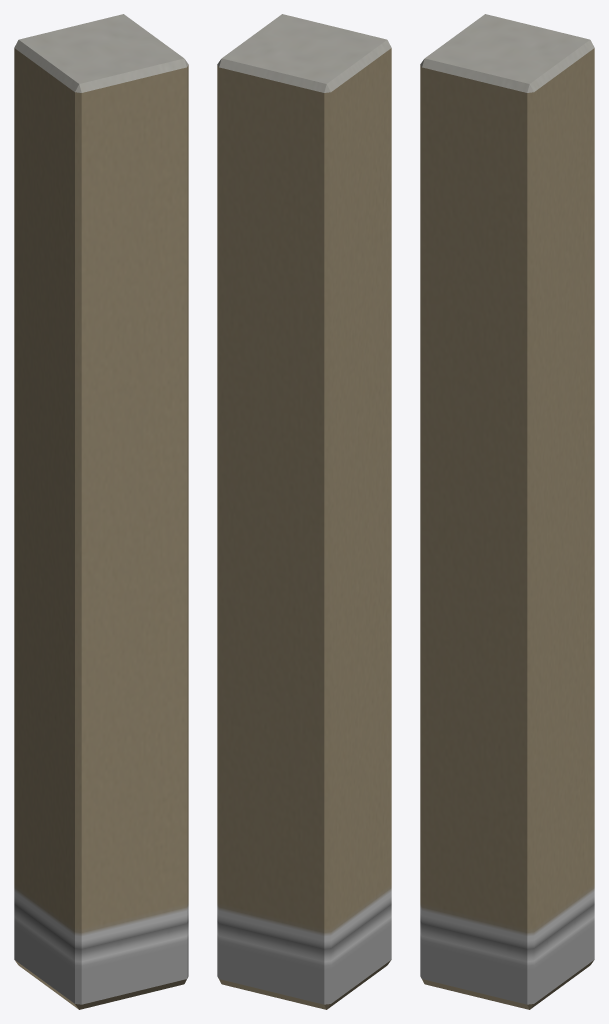
The model's file is column1_5.fbx.
The picture shows the model from 3 angles, left to right: view 1: azimuth 30°, elevation 25°; view 2: azimuth 150°, elevation 25°; view 3: azimuth 330°, elevation 25°; orthographic projection.
Parts seen in each view (by area): view 1: column1_d; view 2: column1_d; view 3: column1_d.
Part boxes in pixels (x1=…): column1_d: x1=14, y1=14, x2=188, y2=1009; column1_d: x1=217, y1=14, x2=391, y2=1009; column1_d: x1=420, y1=14, x2=594, y2=1009.
Size of the model in its own units: 52 by 404 by 52.
